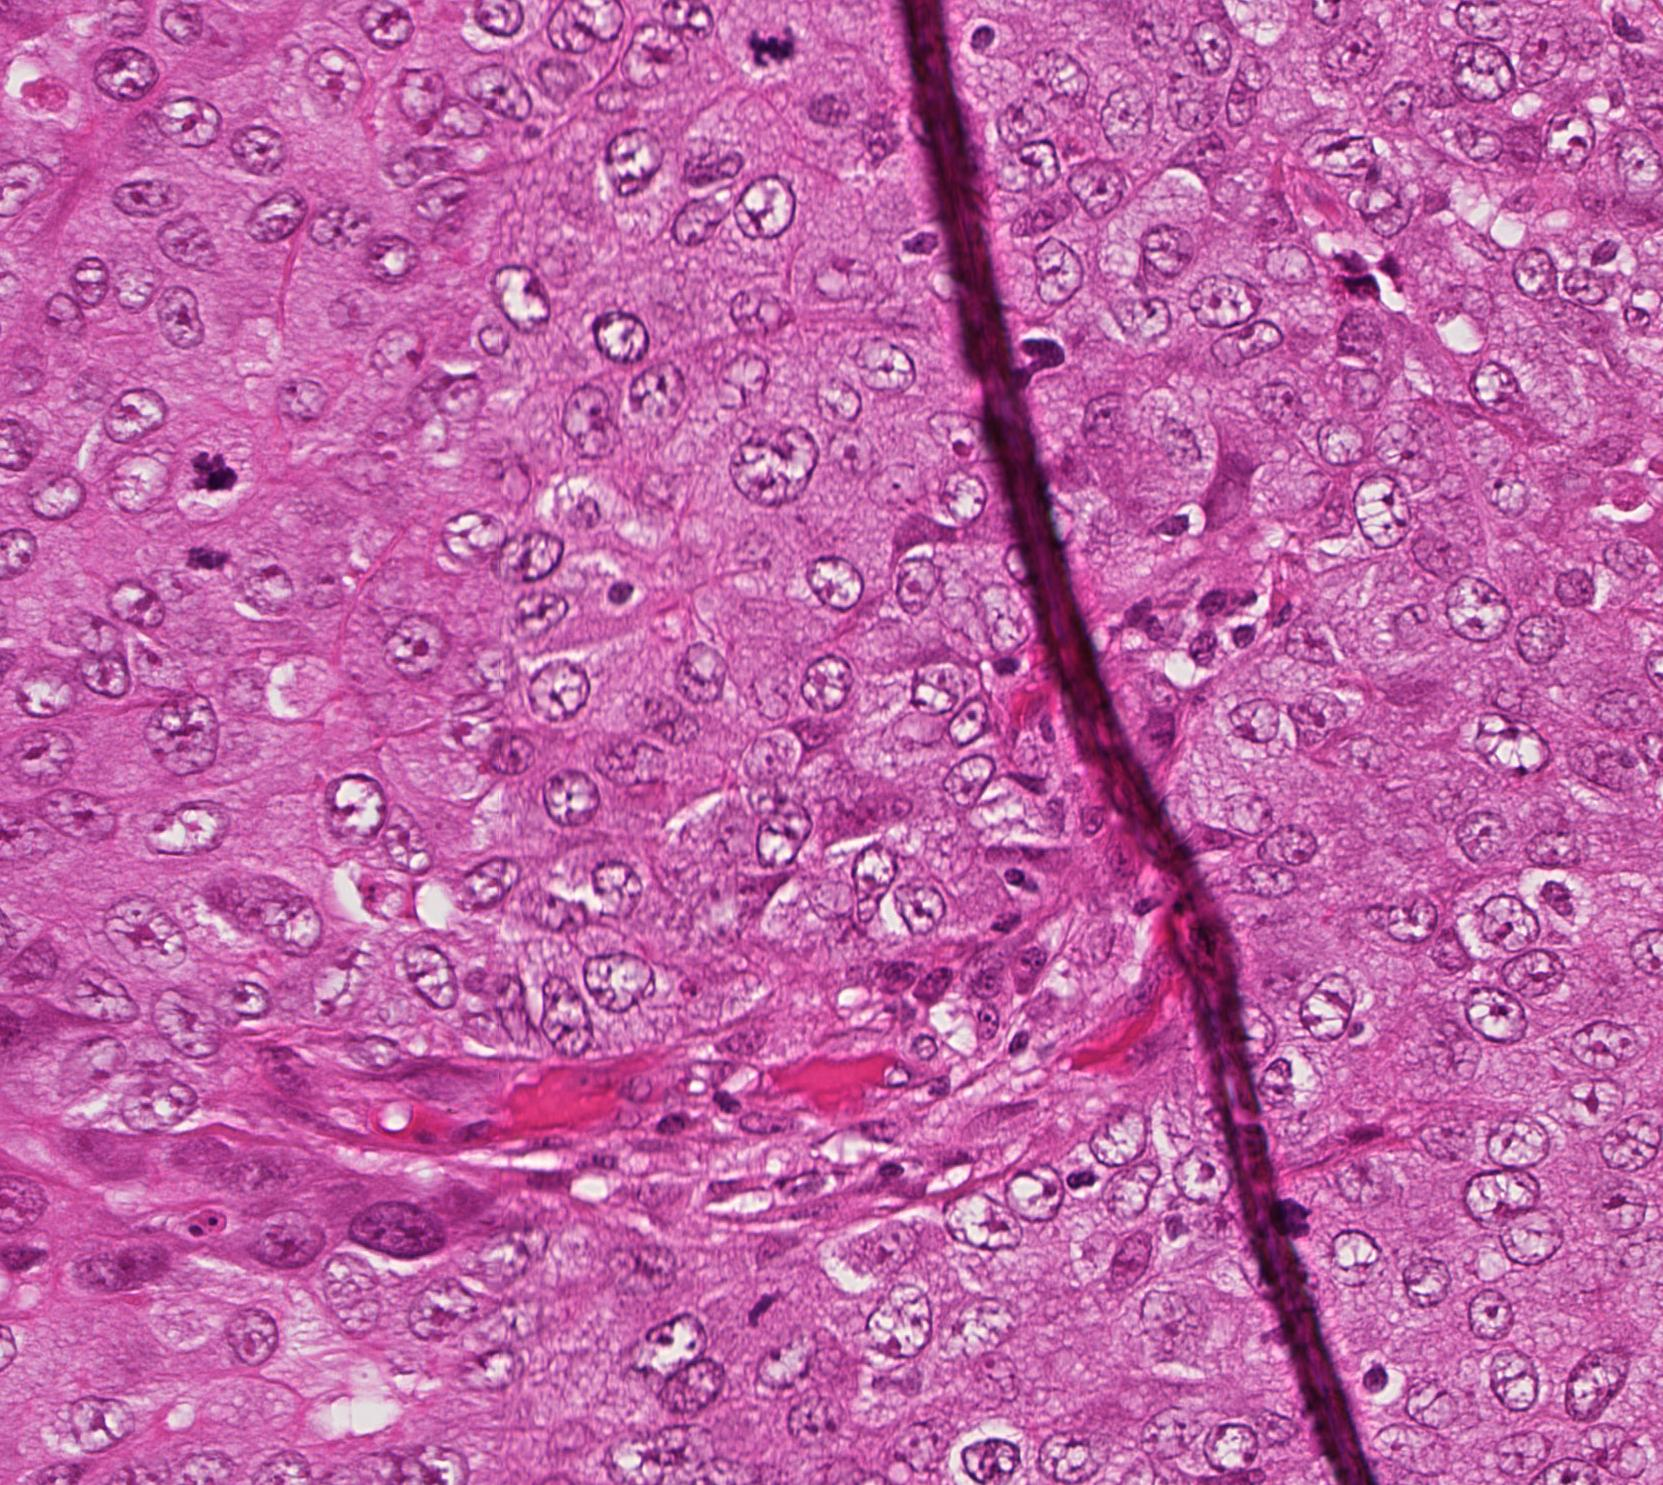mitosis: (1266, 1188, 1326, 1248), (184, 439, 244, 499), (172, 529, 232, 589), (741, 1284, 801, 1345), (730, 22, 788, 82)
